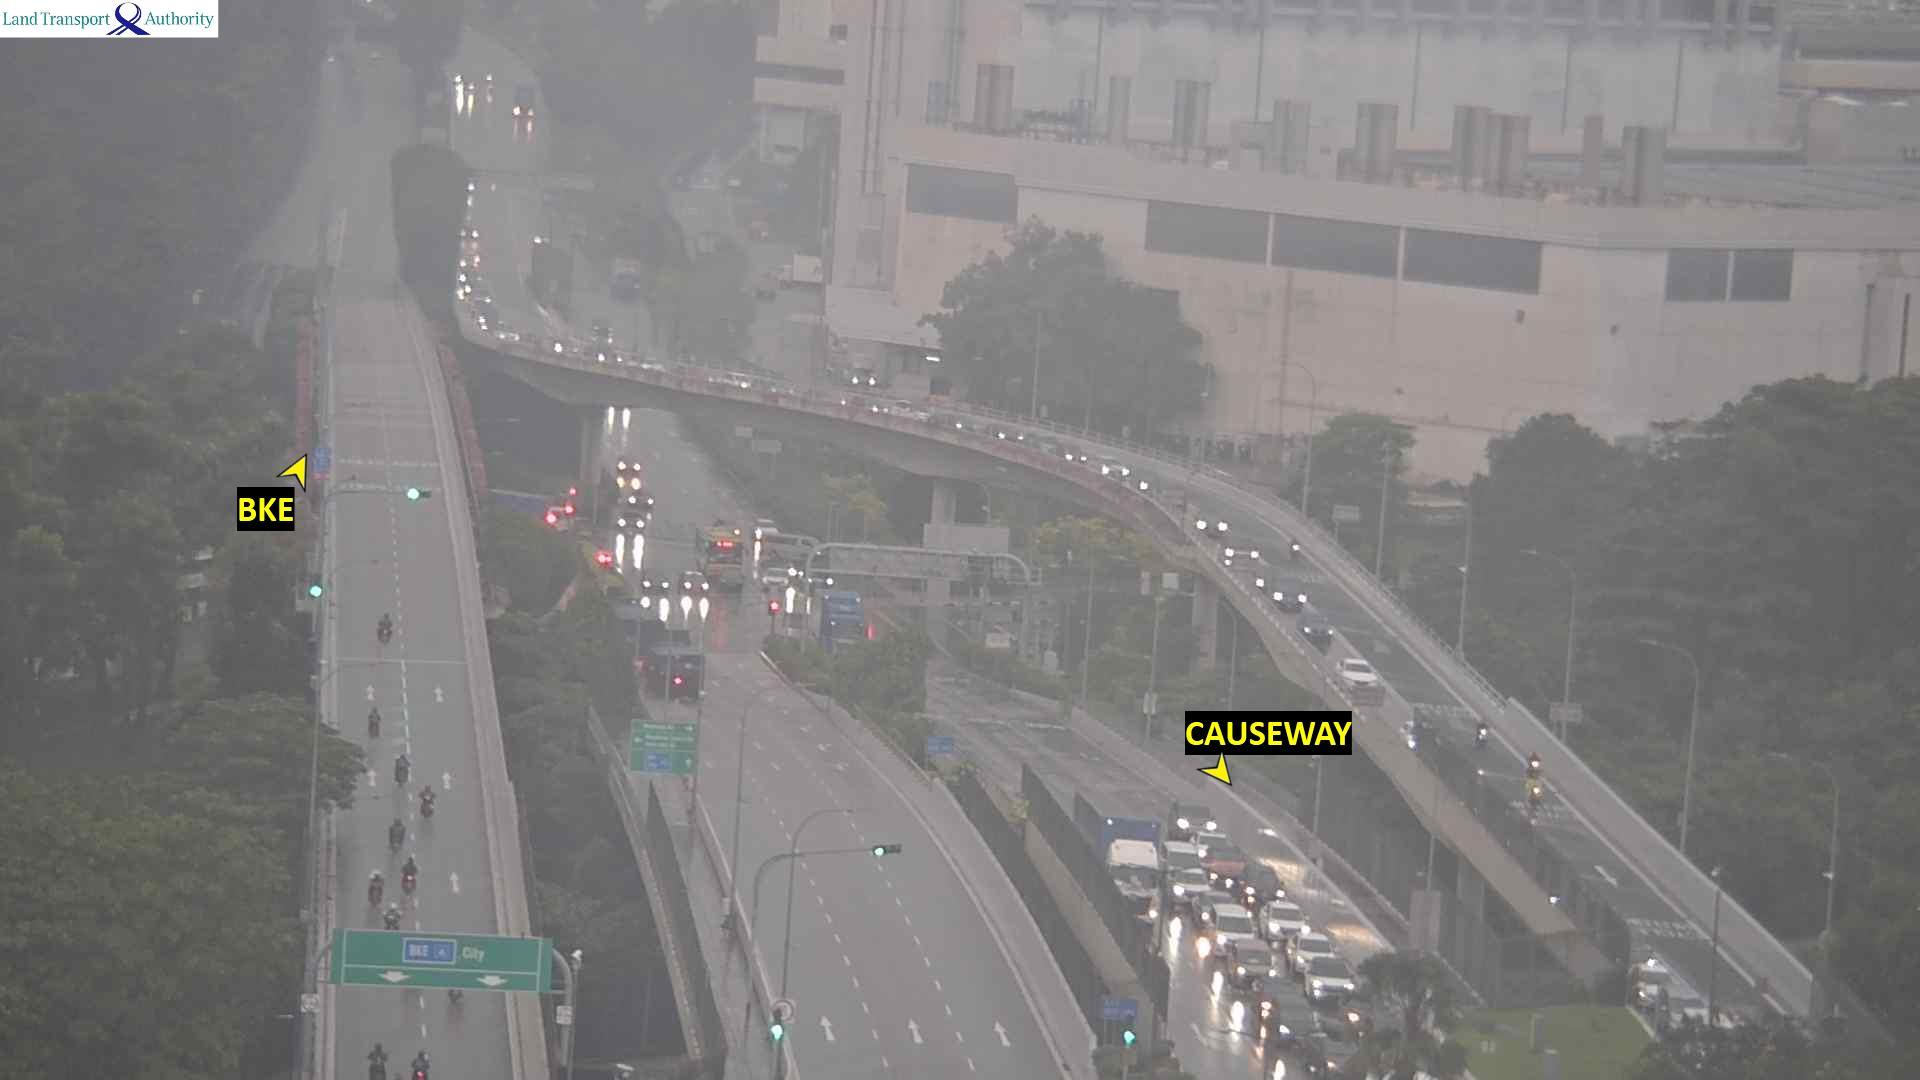vehicle-causeway-johor: (1077, 793, 1156, 914), (1249, 983, 1314, 1038), (1283, 935, 1339, 973), (1259, 902, 1314, 940), (1166, 805, 1221, 843), (1662, 986, 1710, 1028), (1227, 943, 1282, 978), (1203, 899, 1251, 937), (1266, 1042, 1313, 1080), (1630, 959, 1667, 1005), (1265, 1002, 1312, 1038), (1337, 658, 1381, 692), (1326, 654, 1373, 685), (1242, 864, 1278, 903), (1302, 954, 1347, 983), (1207, 848, 1248, 879), (1309, 978, 1360, 1002), (1162, 845, 1197, 877), (1174, 867, 1206, 902), (1218, 540, 1260, 566), (1269, 584, 1308, 609), (986, 425, 1022, 442), (1194, 515, 1228, 532), (495, 323, 522, 342), (1523, 781, 1541, 807), (998, 427, 1028, 442), (1091, 462, 1119, 478), (1523, 753, 1540, 777), (1059, 450, 1082, 465), (478, 309, 497, 327), (637, 360, 661, 373), (864, 401, 884, 416), (1479, 718, 1488, 750), (463, 224, 482, 239), (460, 256, 479, 269), (1289, 538, 1299, 559)
vehicle-causeway-singapore: (667, 650, 694, 689), (366, 1044, 386, 1080), (365, 866, 382, 901), (386, 905, 406, 927), (413, 1053, 428, 1080), (391, 822, 404, 853), (399, 749, 417, 771), (379, 612, 392, 642), (406, 860, 423, 882), (419, 787, 429, 815), (366, 712, 376, 739)
